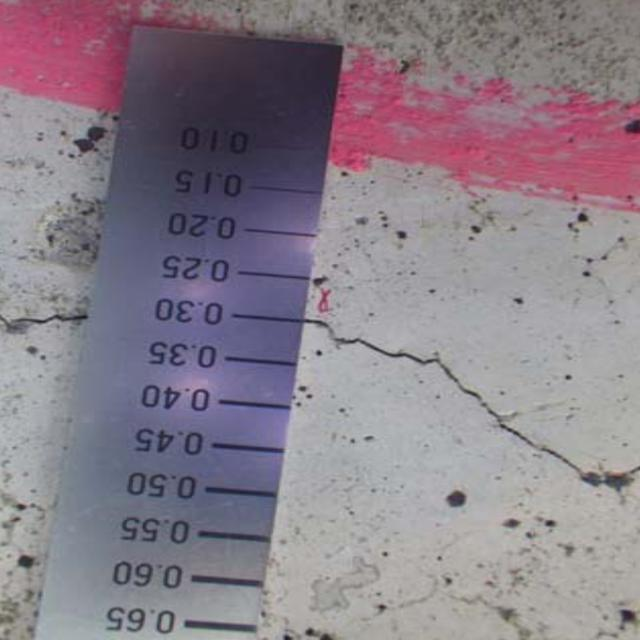crack: (306, 312, 633, 502), (3, 296, 97, 344)
